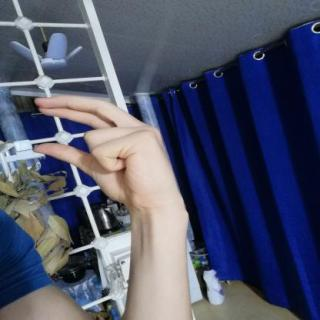DHELL: (20, 87, 188, 212)
